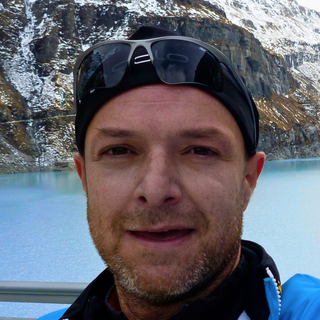eye: (176, 140, 226, 164), (96, 141, 143, 163)
